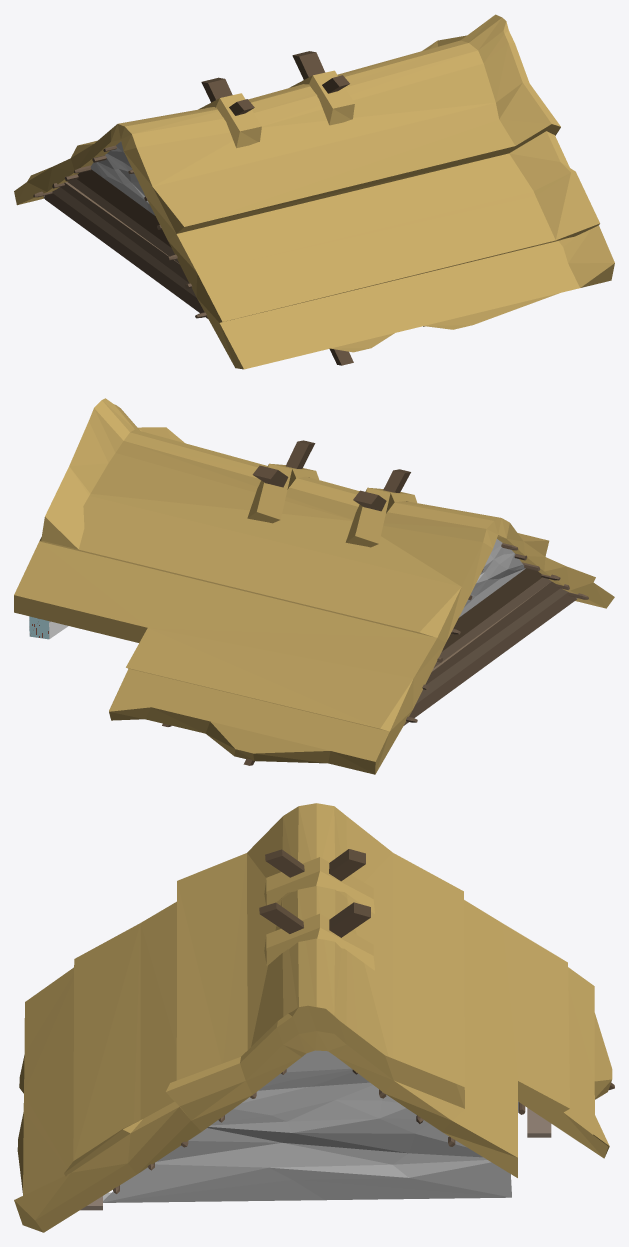
The model's file is EA03_Village_Hut_Roof_Cut_01b.glb.
3 views of the same model, one above another, from view 1: azimuth 30°, elevation 25°; view 2: azimuth 150°, elevation 25°; view 3: azimuth 270°, elevation 25° (orthographic). The views are drawn at different scales.
Parts seen in each view (by area): view 1: EA03_Village_Hut_Roof_Cut_01b; view 2: EA03_Village_Hut_Roof_Cut_01b; view 3: EA03_Village_Hut_Roof_Cut_01b.
Part boxes in pixels (x1=…): EA03_Village_Hut_Roof_Cut_01b: x1=14, y1=14, x2=614, y2=369; EA03_Village_Hut_Roof_Cut_01b: x1=14, y1=398, x2=614, y2=774; EA03_Village_Hut_Roof_Cut_01b: x1=14, y1=803, x2=614, y2=1232.
Bounding box in the file's own units: 10.55 × 5.22 × 11.37.
1 material, 1 textured.
